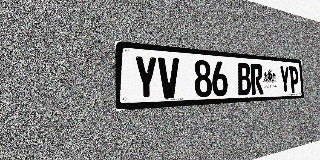6: (211, 61, 228, 96)
8: (194, 59, 212, 97)
B: (237, 62, 251, 95)
P: (289, 66, 299, 93)
R: (250, 63, 263, 95)
V: (158, 57, 180, 99)
Y: (133, 55, 158, 100), (279, 65, 290, 93)
